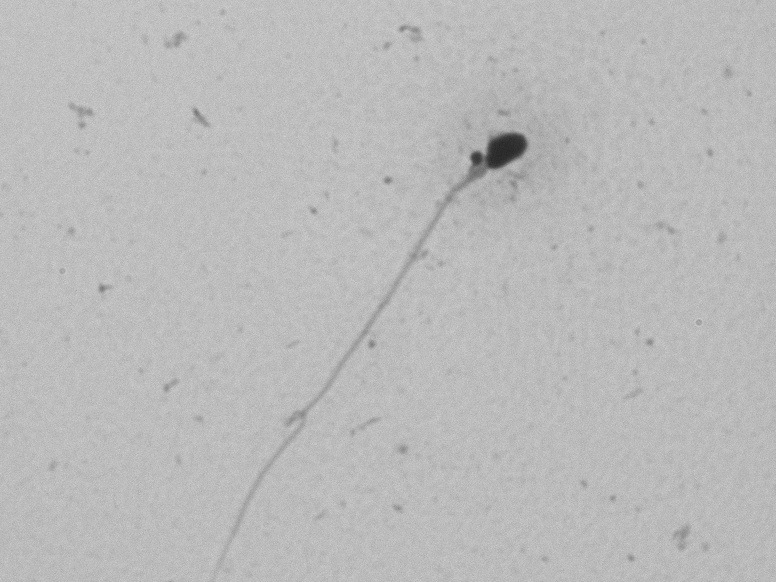Abnormal: (192, 107, 556, 478)
